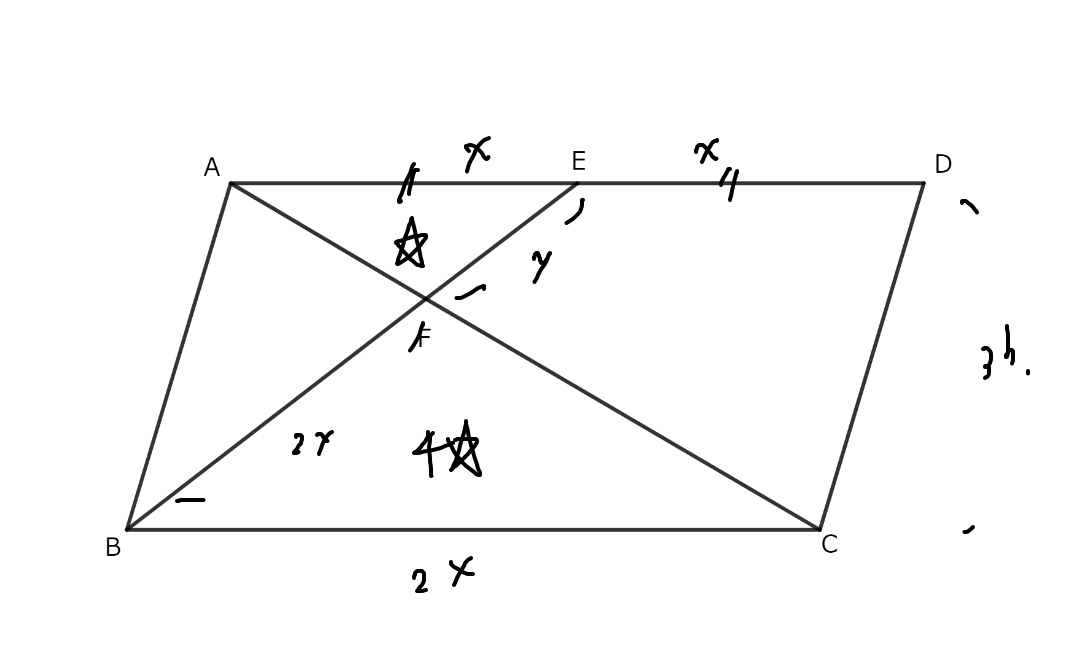Edge_Dline: (391, 159, 424, 204), (715, 167, 741, 207)
